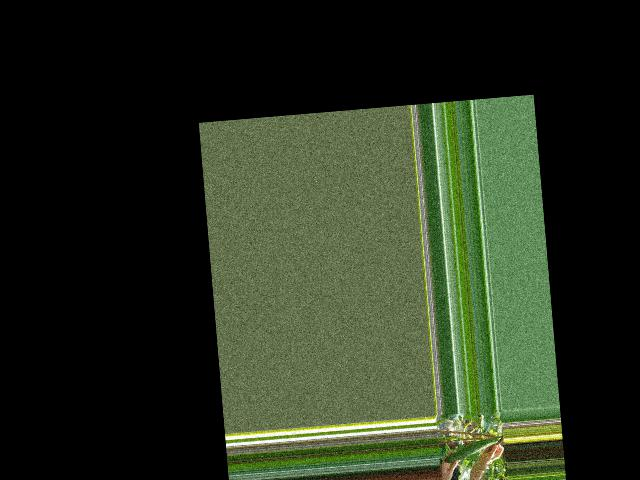cucumber: (442, 437, 499, 463)
